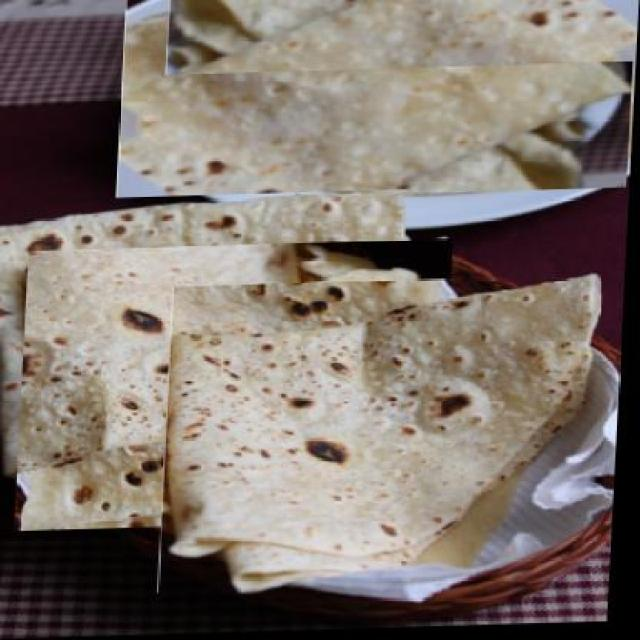chapati: (163, 279, 605, 596), (18, 241, 457, 533), (0, 192, 412, 481), (117, 0, 638, 205), (166, 0, 639, 77)
